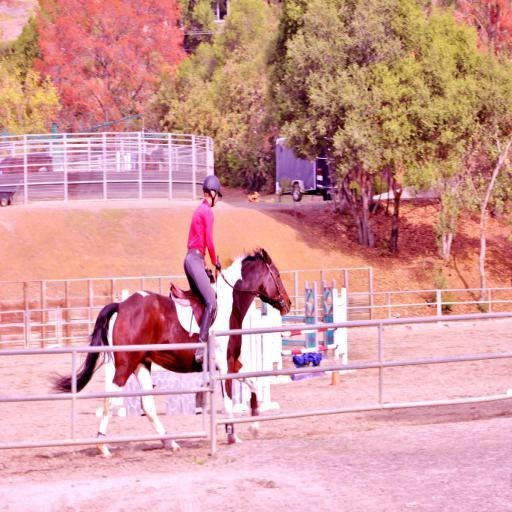Horse: (41, 249, 292, 452)
